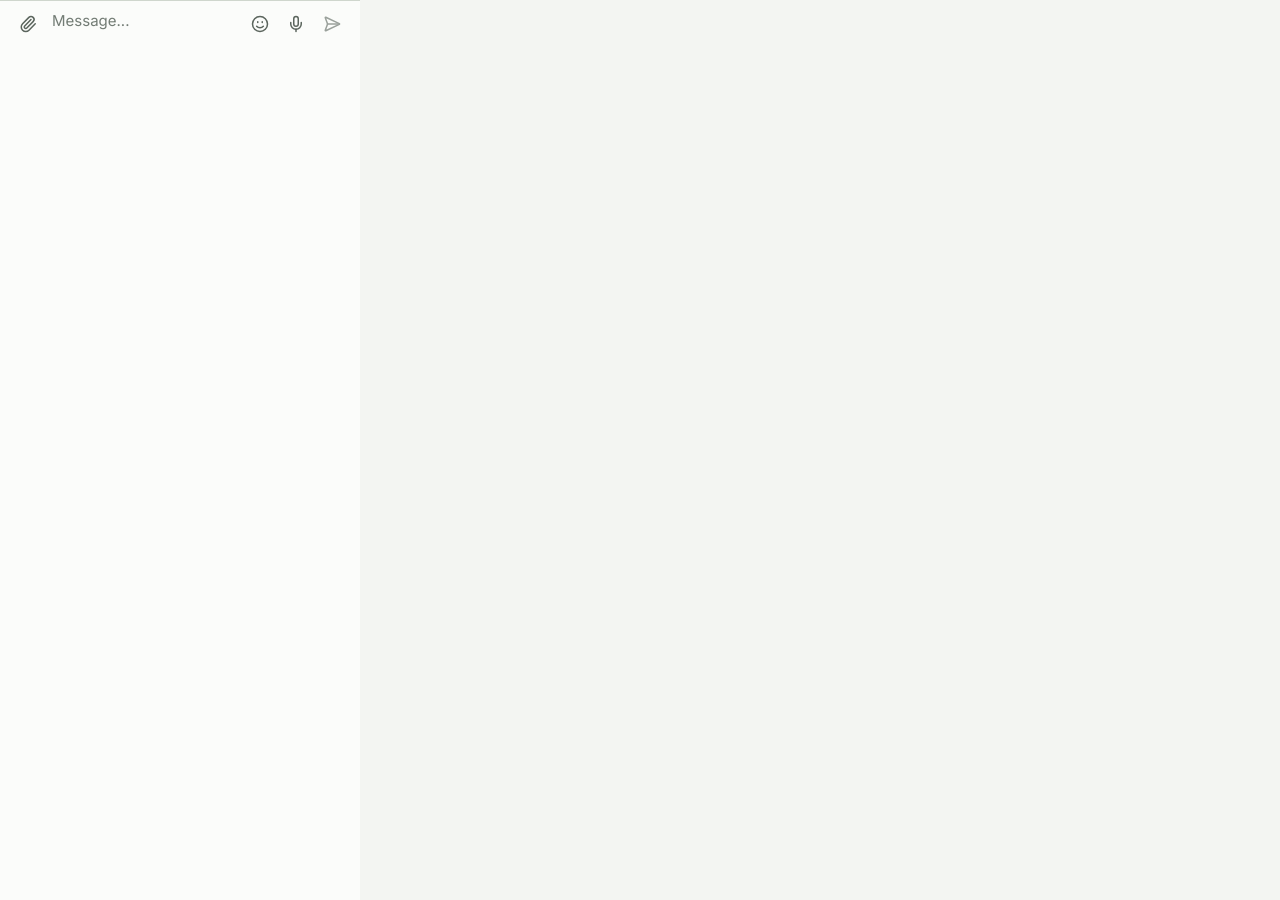
Test: MessageInput attachments › cancels the create-link dialog without changing the visible text
Type "Open site" into the text box with test id "message-input-textarea" at (144, 21), box [48,5,240,37]
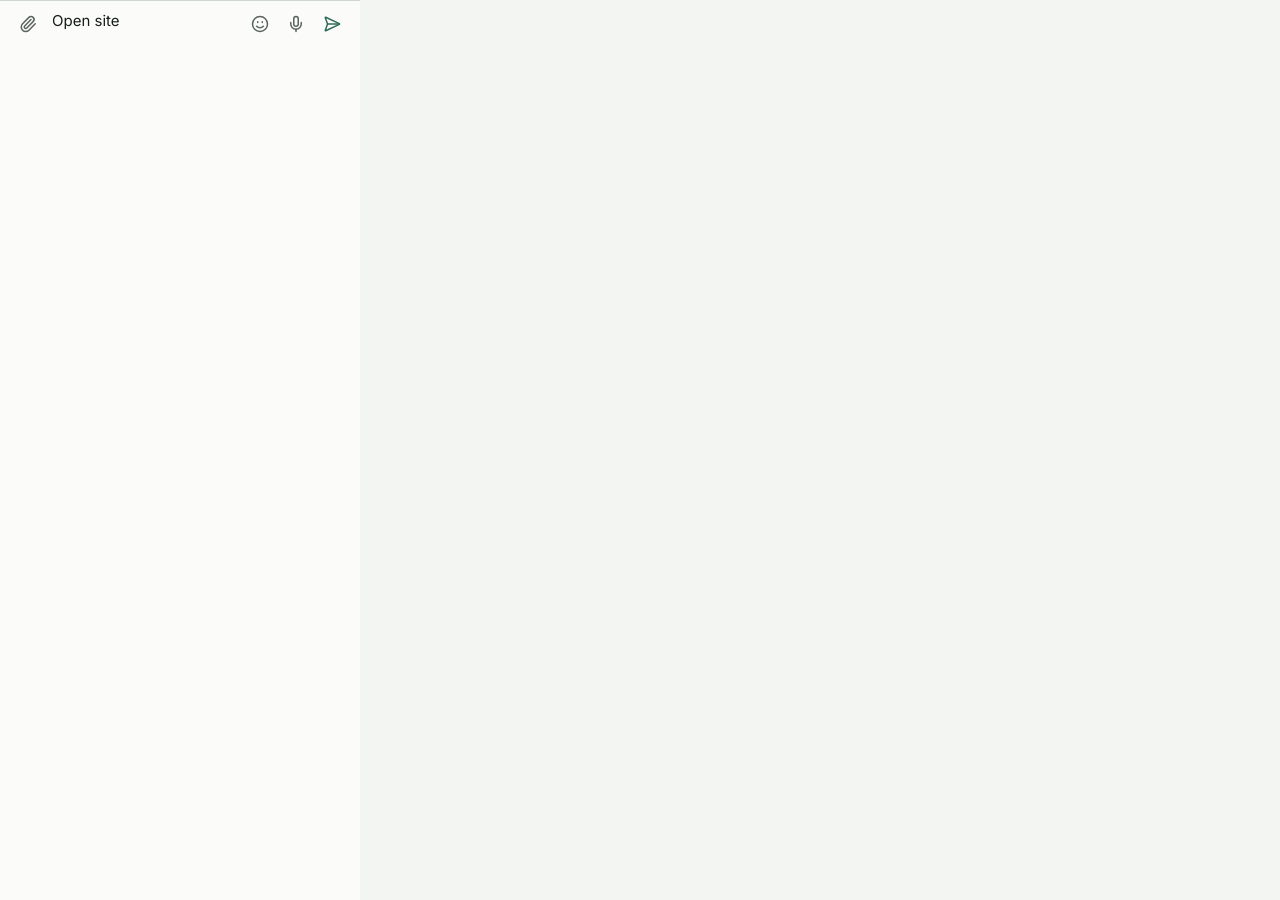
Press k in the text box with test id "message-input-textarea", box [48,5,240,37]
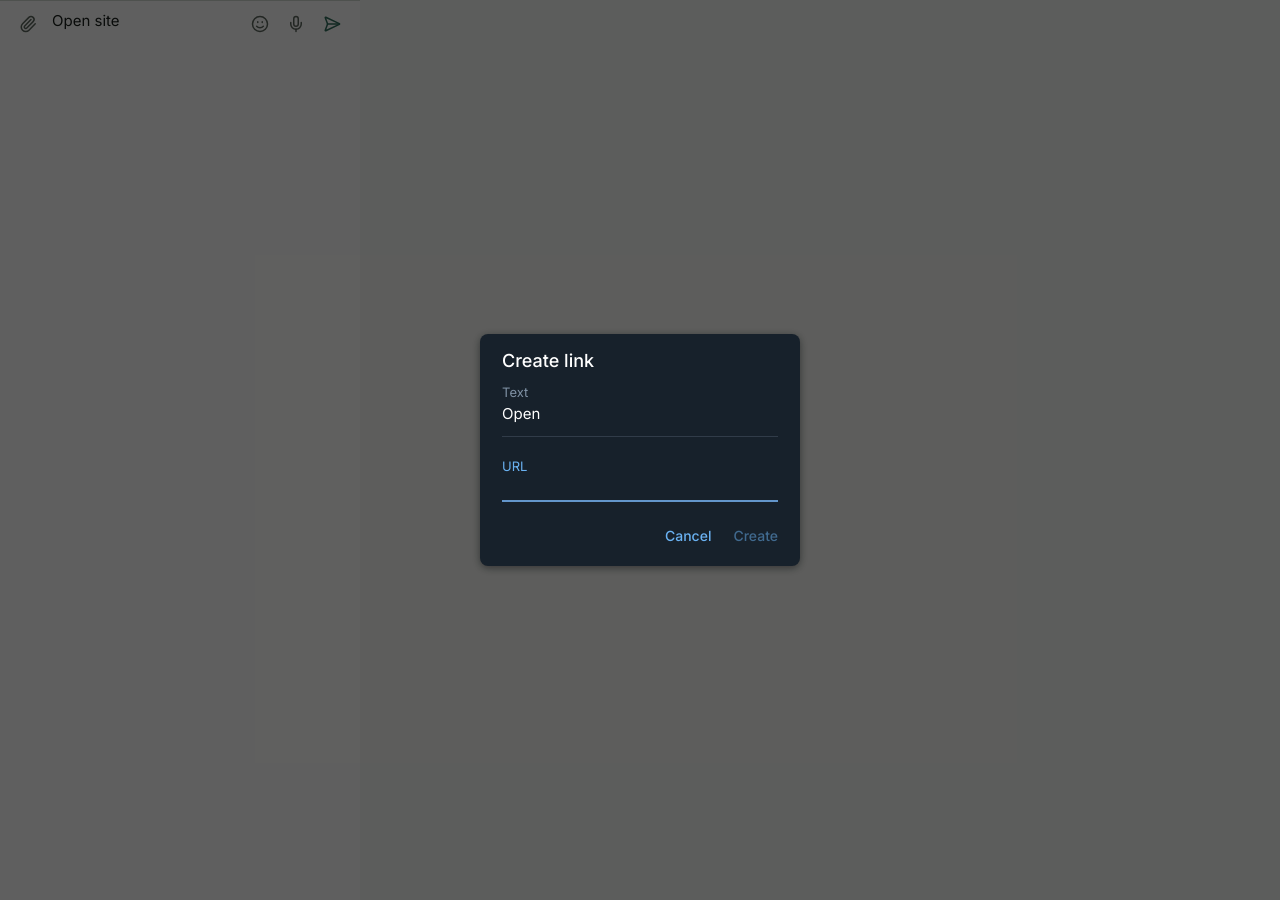
Expected: the dialog with test id "create-link-dialog" is shown, [480,334,800,566]
Press Escape in the field with test id "create-link-url-input", box [502,477,778,500]
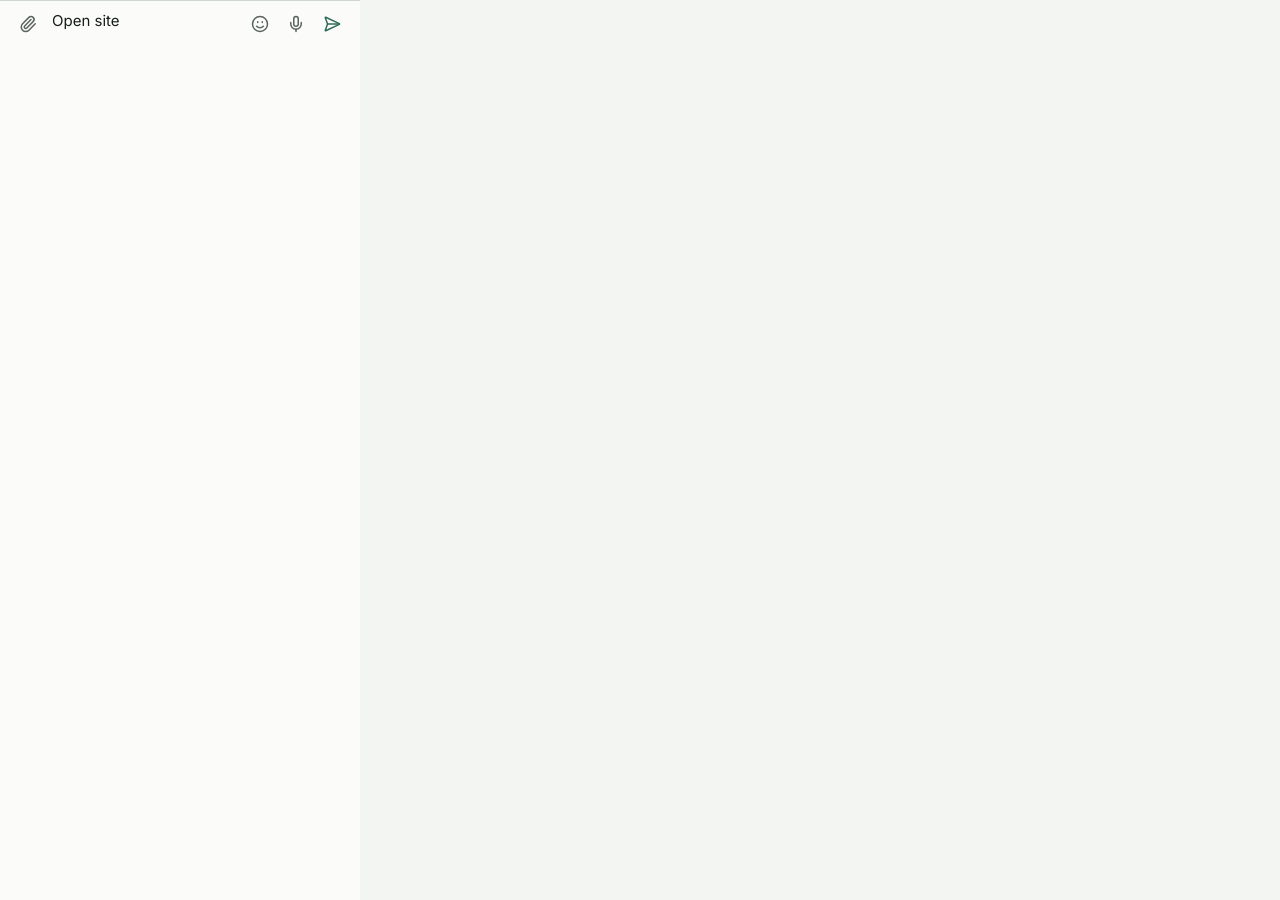
Expected: the dialog with test id "create-link-dialog" is gone
